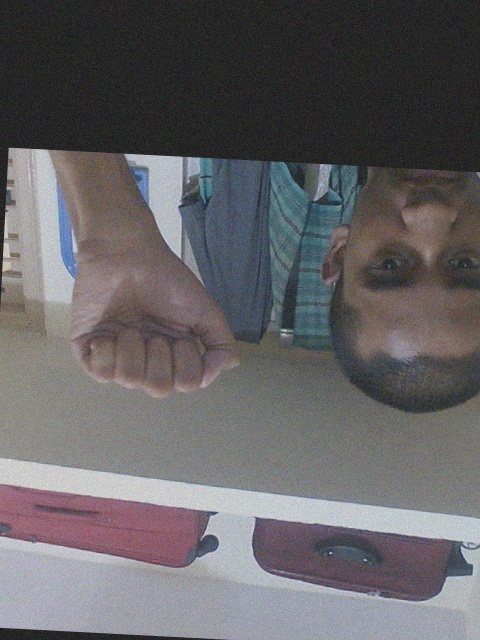hand: (63, 224, 247, 403)
